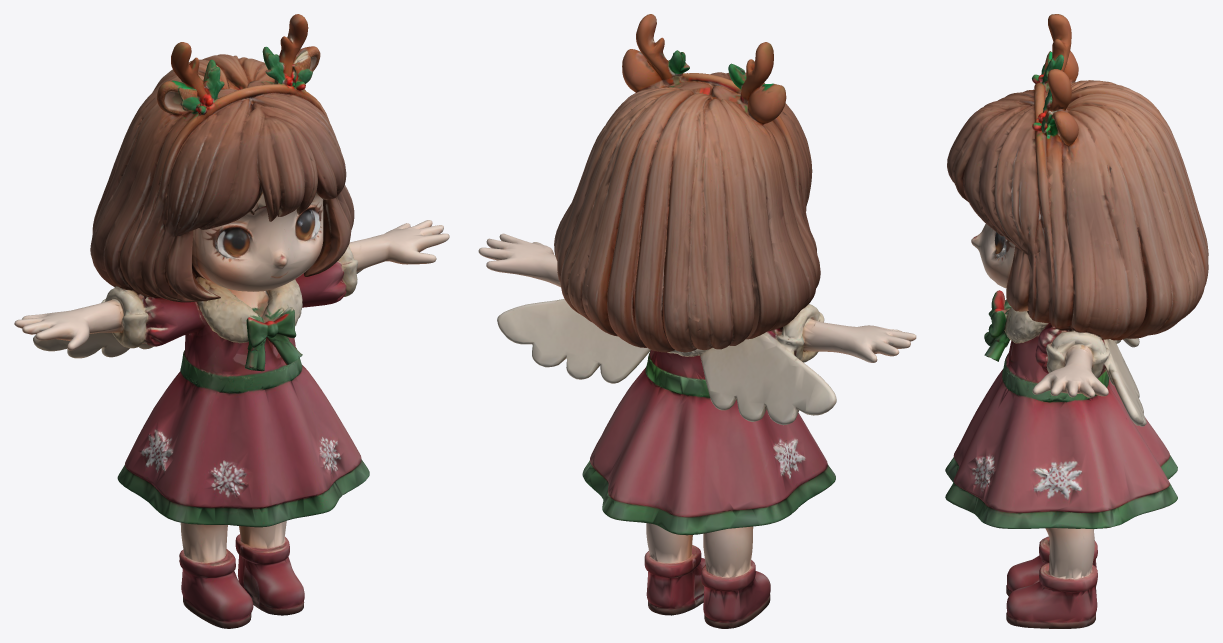
File: angel.glb
3 views of the same model, side by side, from view 1: azimuth 30°, elevation 25°; view 2: azimuth 150°, elevation 25°; view 3: azimuth 270°, elevation 25° (orthographic). The views are drawn at different scales.
Visible parts, largest first — view 1: texture_mapping; view 2: texture_mapping; view 3: texture_mapping.
Part boxes in pixels (x1,y1,x2,y2): texture_mapping: (14, 14, 449, 628); texture_mapping: (478, 14, 916, 628); texture_mapping: (945, 14, 1208, 628).
Size of the model in its own units: 0.7658 by 1 by 0.4216.
Materials: 1 (1 with a texture image).
